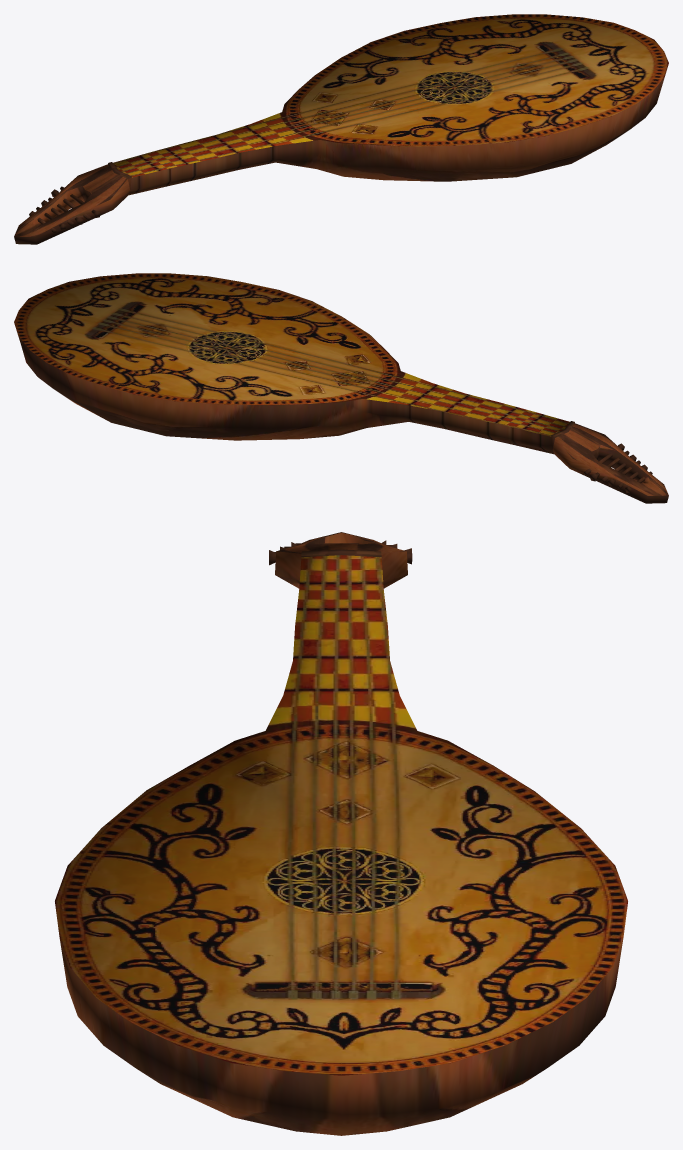
The model's file is ITMI_LUTE_PRISCILLA.glb.
3 views of the same model, one above another, from view 1: azimuth 30°, elevation 25°; view 2: azimuth 150°, elevation 25°; view 3: azimuth 270°, elevation 25° (orthographic). The views are drawn at different scales.
Parts seen in each view (by area): view 1: Mesh; view 2: Mesh; view 3: Mesh.
Part boxes in pixels (box(x1,y1,x2,y2)): Mesh: box(14, 14, 668, 244); Mesh: box(14, 273, 668, 503); Mesh: box(55, 532, 627, 1135).
Bounding box in the file's own units: 0.9198 × 0.1013 × 0.3566.
1 material, 1 textured.
